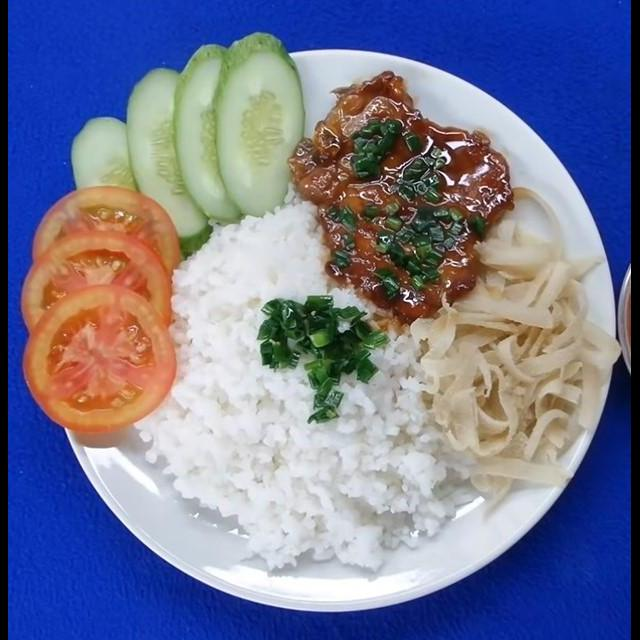bi: (396, 218, 624, 501)
com: (124, 180, 492, 572)
com suon: (33, 45, 632, 612)
suon: (284, 64, 518, 323)
